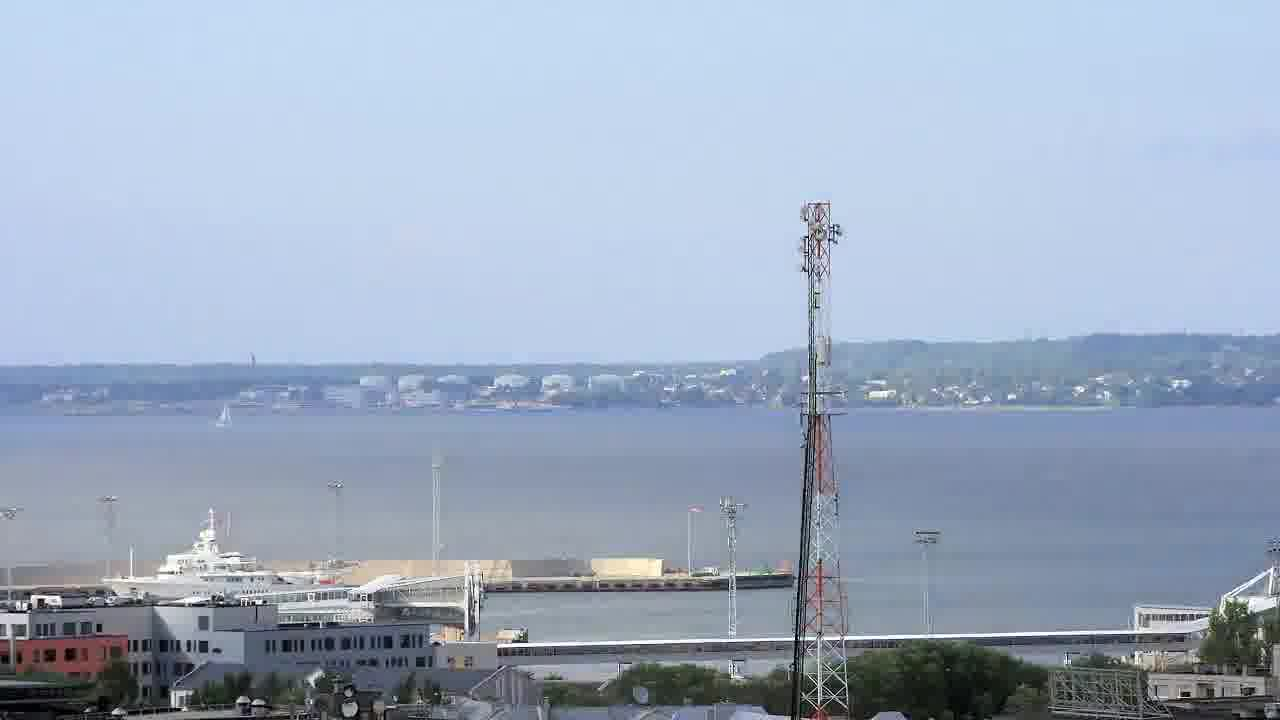type-2: (195, 383, 252, 445)
type-3: (88, 507, 346, 605)
